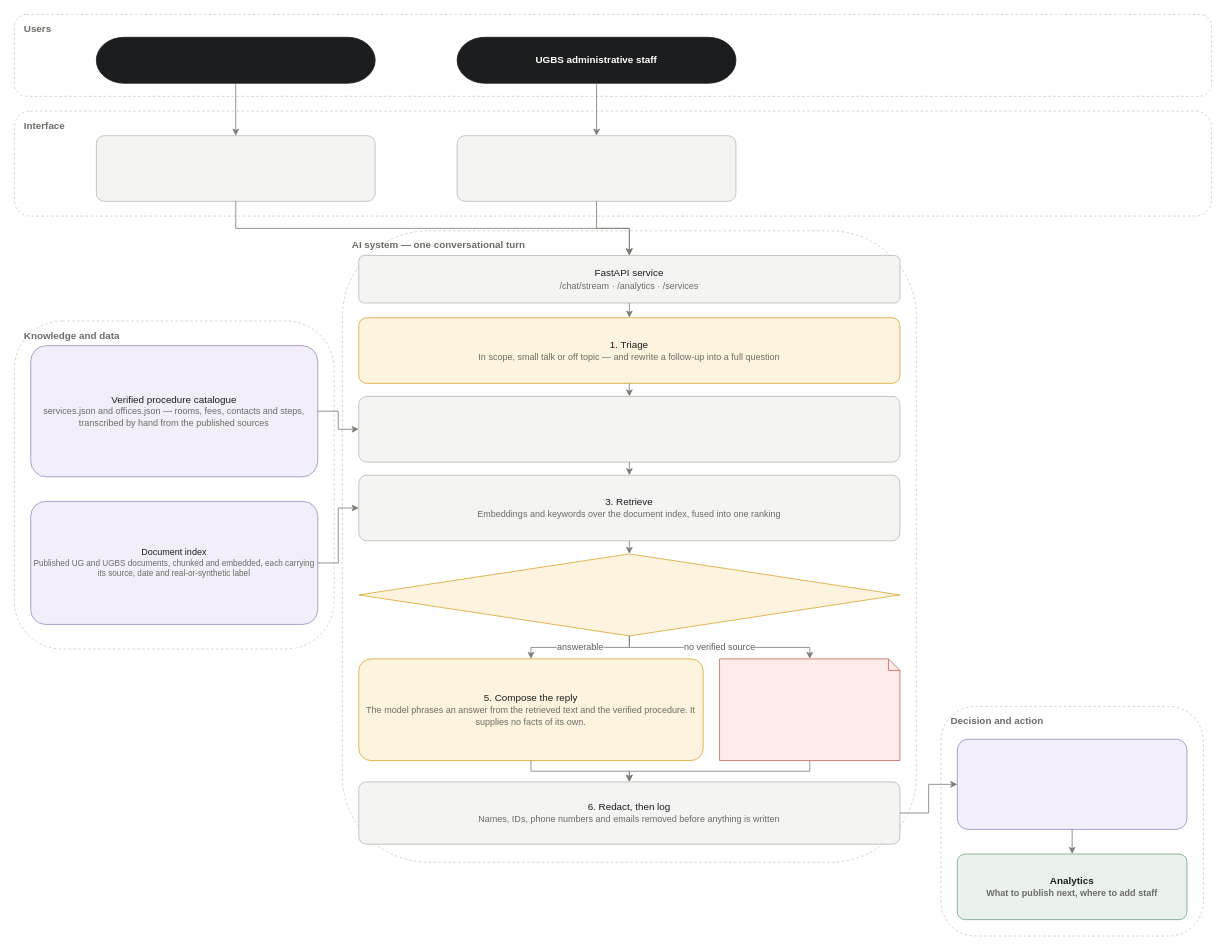
The diagram is 1226 pixels wide and 950 high, and some of its shapes have lost their labels. Here are the shapes that lost their labels. From the top down, the centre of each, then its label:
At point (235, 59): "UGBS student".
At point (235, 168): "Chat interface Streamed reply, citations, office card, steps".
At point (596, 168): "Administrative dashboard Demand, gap register, deflection, forecast".
At point (629, 429): "2. Route Question to service and office — a table lookup, never a model".
At point (629, 594): "4. Confidence gate Too weak a match: the model is not called at all".
At point (809, 709): "5b. Decline Name what is not covered and which office to ask".
At point (1072, 783): "Enquiry log Redacted, with a retention limit".
